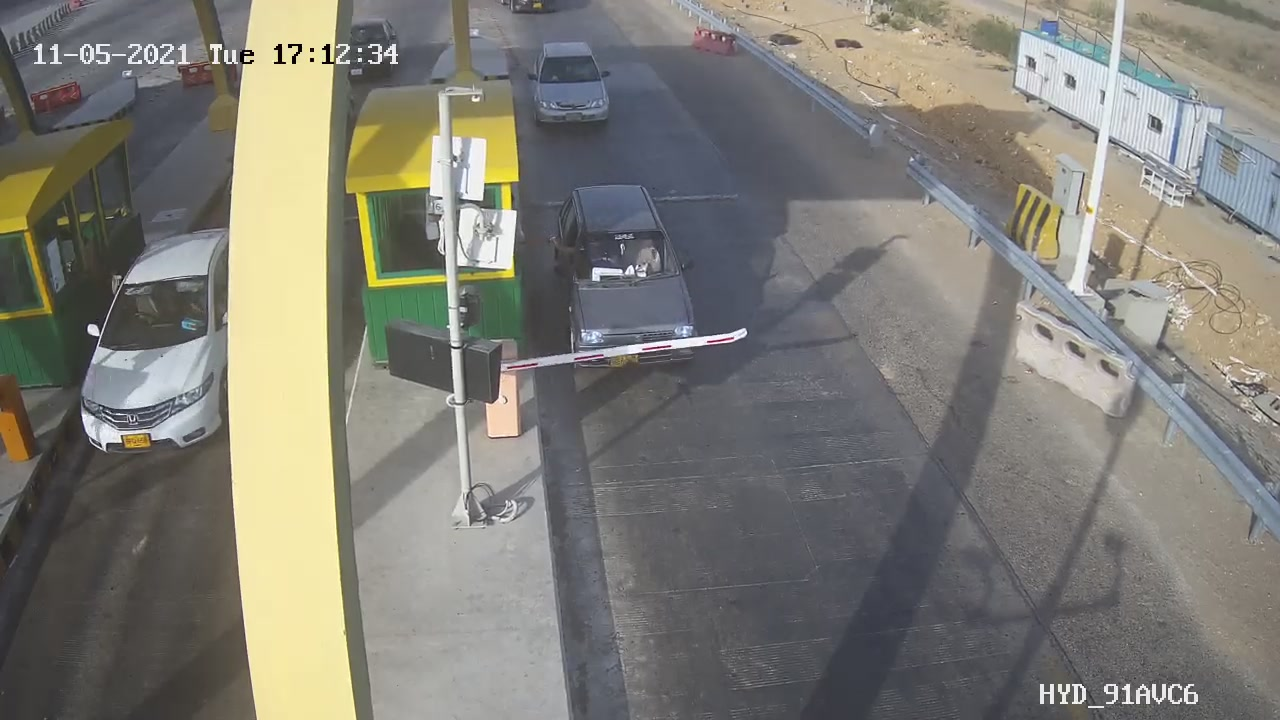F1: (537, 169, 720, 385), (517, 27, 630, 144)
